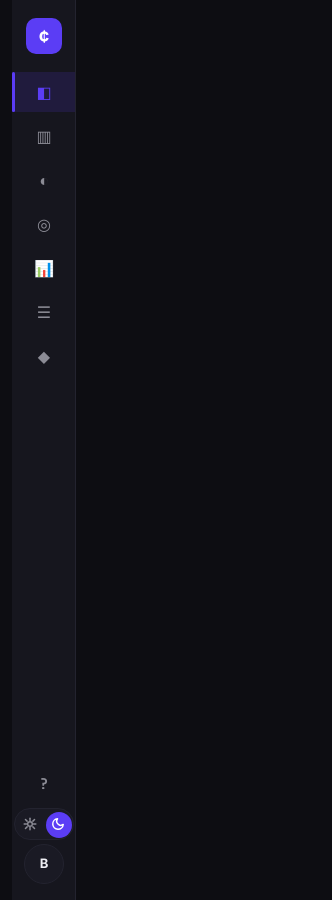
Test: AppSidebar › adds --expanded class to panel on mouseenter
The width and height of the screenshot is (332, 900).
Hover over the element with class "app-sidebar__panel" at coordinates (44, 450), box [12,0,76,899]
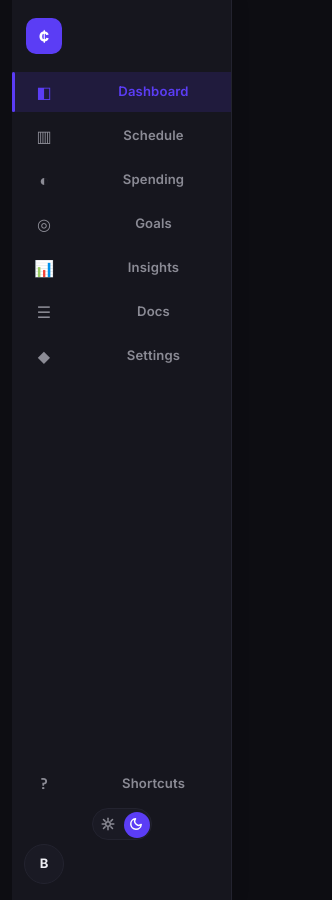
Now the element with class "app-sidebar__panel--expanded" is shown
